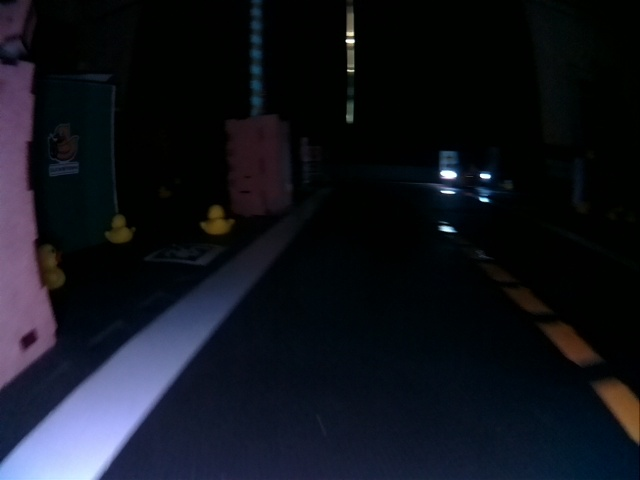Duckie: (38, 247, 65, 285), (200, 208, 232, 233), (107, 217, 134, 243)
QR code: (154, 242, 221, 264)
